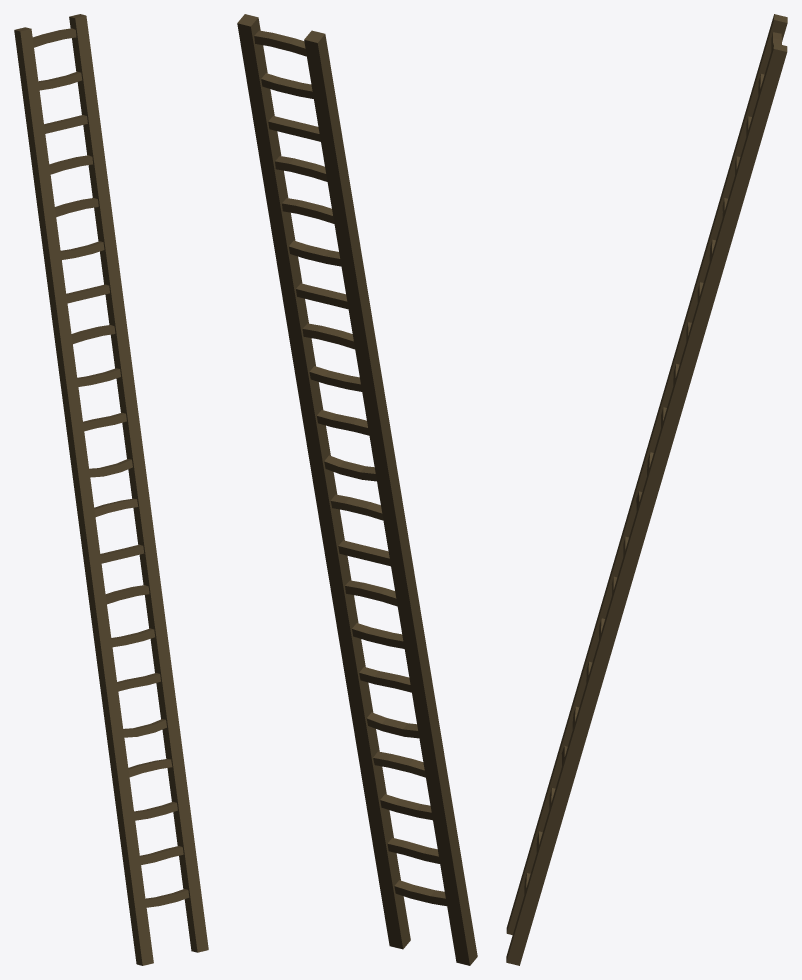
The model's file is Ladder.fbx.
3 renders of one model, left to right at view 1: azimuth 30°, elevation 25°; view 2: azimuth 150°, elevation 25°; view 3: azimuth 270°, elevation 25°, orthographic. The views are drawn at different scales.
Visible parts, largest first — view 1: Cube.008; view 2: Cube.008; view 3: Cube.008.
Part boxes in pixels (x1,y1,x2,y2): Cube.008: (14,14,208,965); Cube.008: (237,14,477,965); Cube.008: (506,14,787,965).
Bounding box in the file's own units: 98.11 × 1185 × 329.
